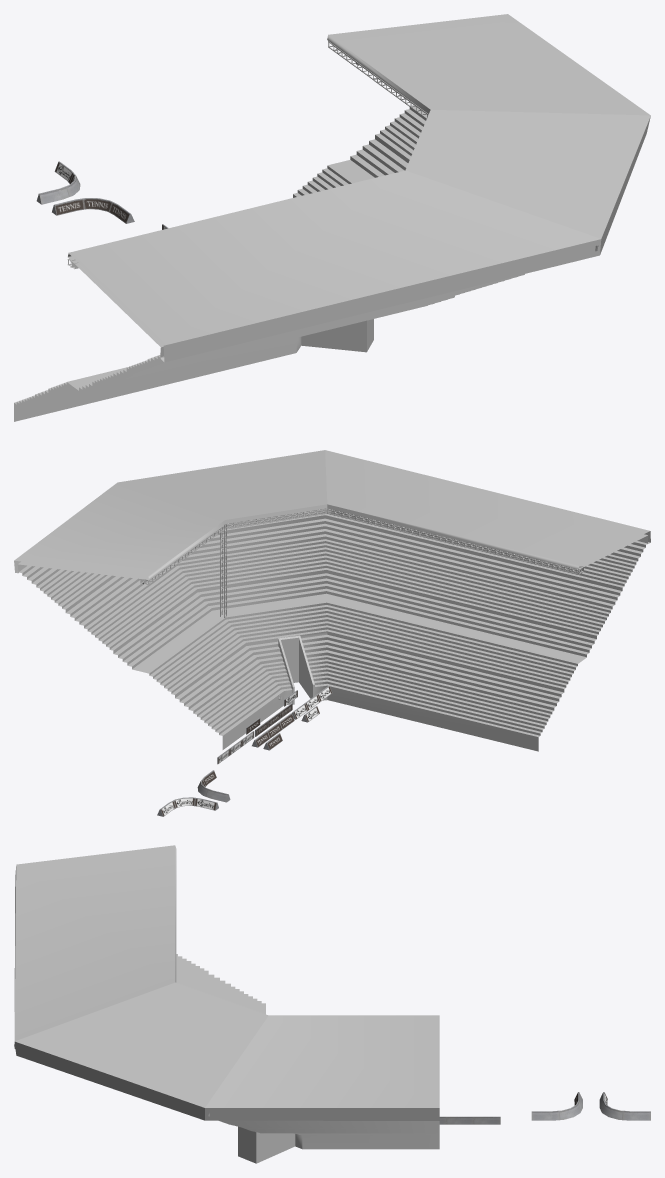
Rendered from Tennis.fbx.
3 renders of one model, top to bottom at view 1: azimuth 30°, elevation 25°; view 2: azimuth 150°, elevation 25°; view 3: azimuth 270°, elevation 25°, orthographic. The views are drawn at different scales.
Visible parts, largest first — view 1: Roof_10, Steps, polySurface30, Ads_boards2_L1, Ads_boards2_L2, Piller_metal_1; view 2: Steps, Roof_10, polySurface30, Piller_metal_3, Piller_metal_, Ads_boards2_L2; view 3: Roof_10, Steps, polySurface30, Ads_boards2_L1, Ads_boards2_L2, Ads_boards2.
Boxes of the visible parts, x1,y1,x2,y2 form: Roof_10: (68,14,650,362); Steps: (14,105,524,421); polySurface30: (301,319,373,352); Ads_boards2_L1: (52,198,134,223); Ads_boards2_L2: (36,161,80,204); Piller_metal_1: (328,41,428,118); Steps: (19,512,647,751); Roof_10: (14,450,650,579); polySurface30: (278,635,314,704); Piller_metal_3: (327,508,581,574); Piller_metal_: (220,524,226,617); Ads_boards2_L2: (157,797,218,816); Roof_10: (14,845,439,1120); Steps: (176,954,439,1149); polySurface30: (238,1126,295,1163); Ads_boards2_L1: (531,1092,582,1120); Ads_boards2_L2: (599,1092,650,1120); Ads_boards2: (439,1116,500,1124).
Size of the model in its own units: 13161 by 4372 by 14479.
